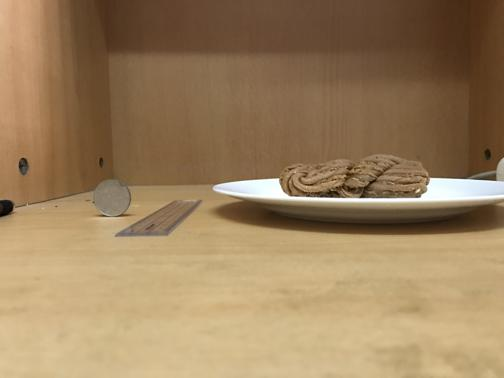coin: (91, 178, 131, 217)
fired_dough_twist: (278, 152, 429, 198)
